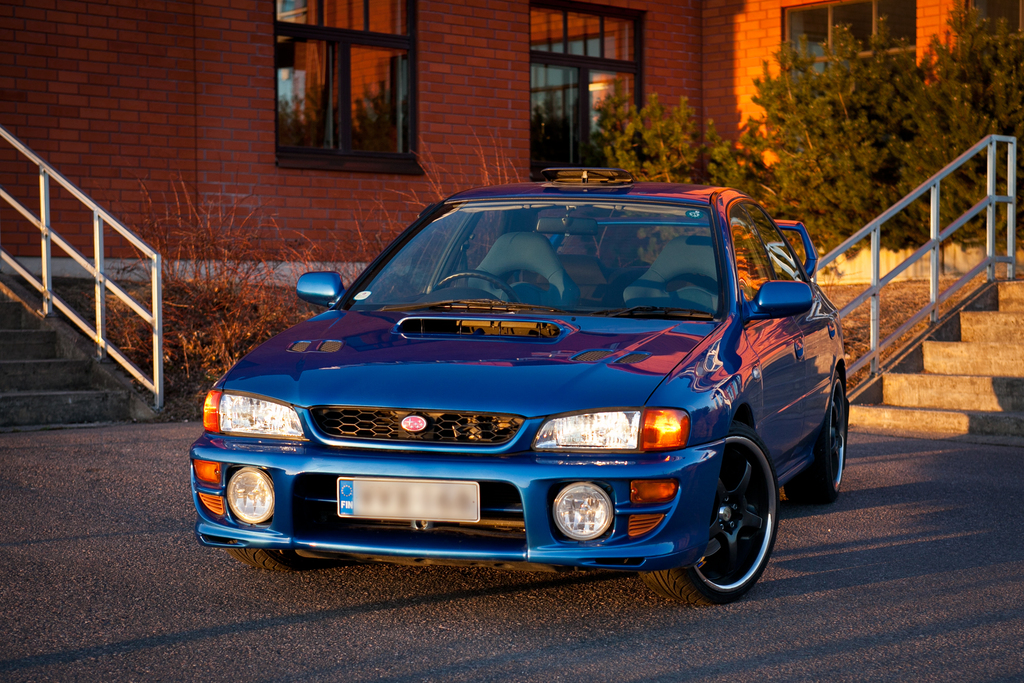cars: (176, 181, 855, 605)
